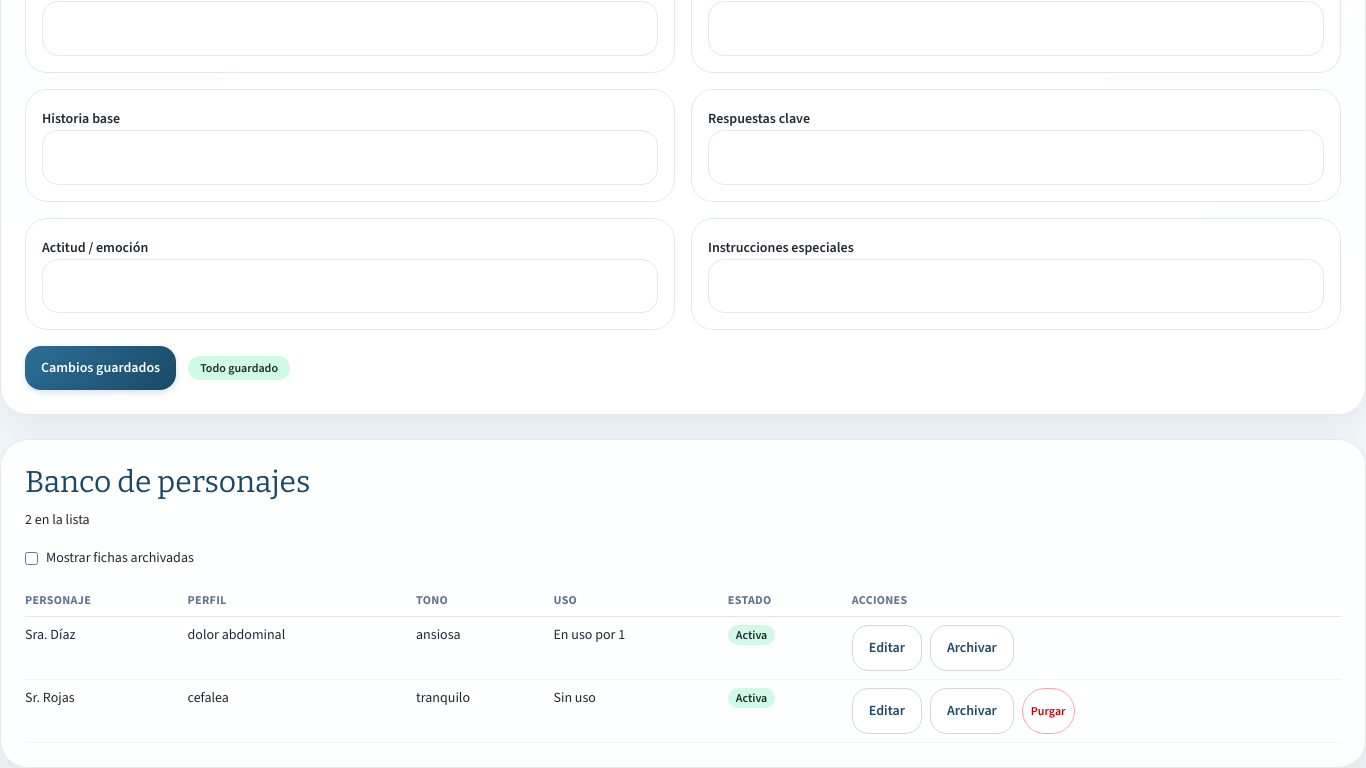
Test: SimulatedPatientPage — CRUD real (OPT-7b) › archivar recarga la lista sin la ficha archivada
(page scrolled)
Expected: the text "Sr. Rojas" is shown, [25,680,188,743]
Click the button "Archivar" in the row of "Sr. Rojas": (972, 711) [930,688,1014,734]
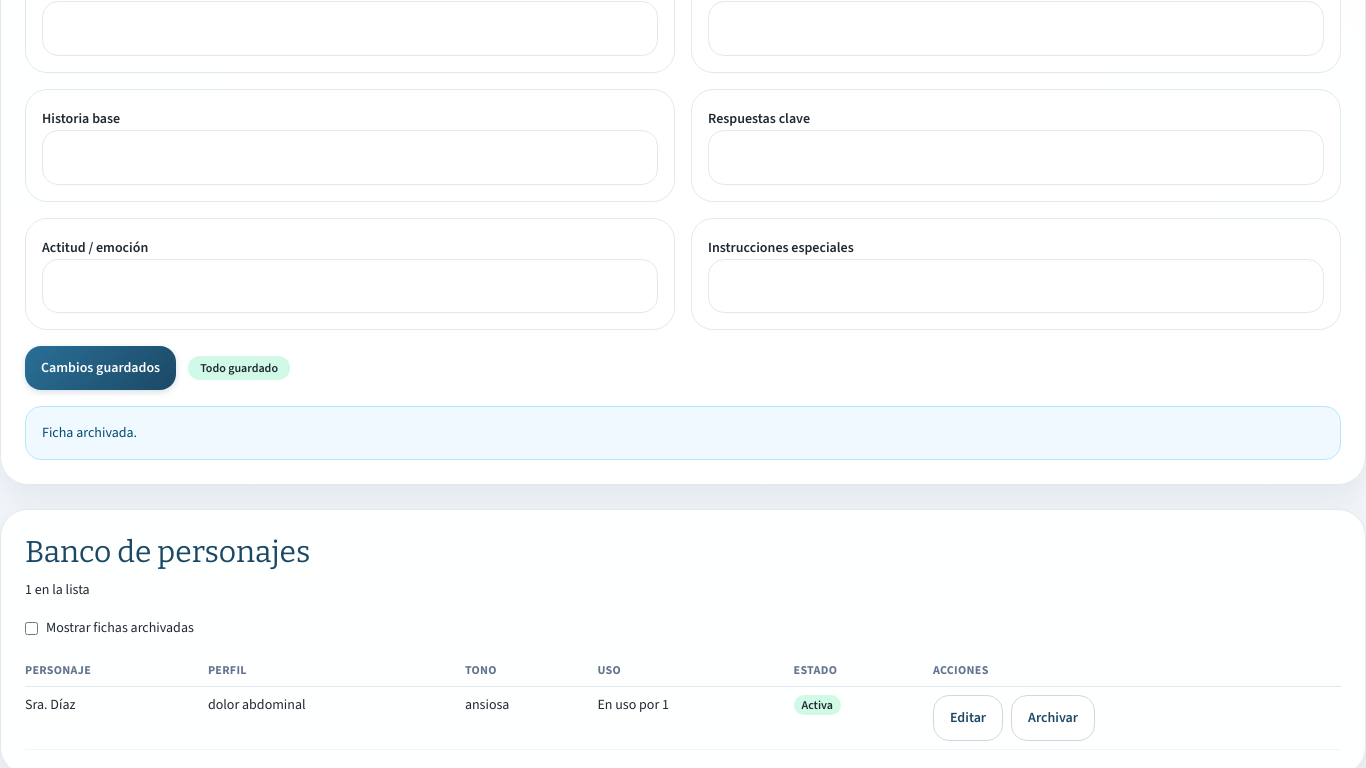
Now the text "Sr. Rojas" is gone
